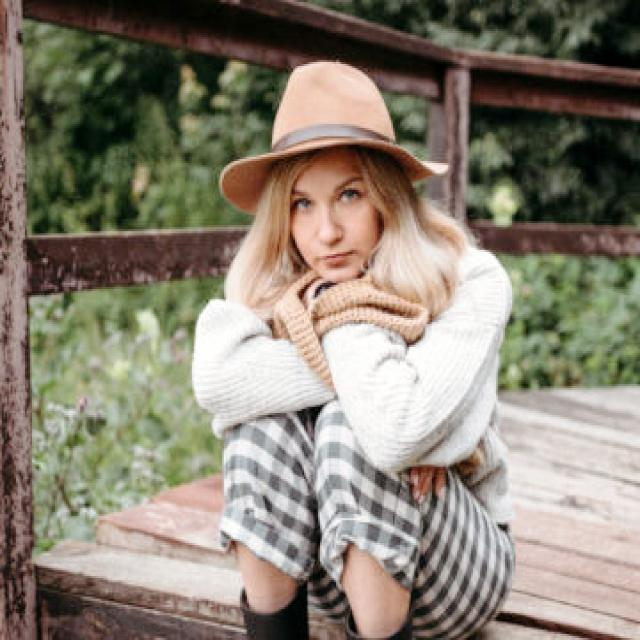TOPI: (212, 49, 455, 219)
